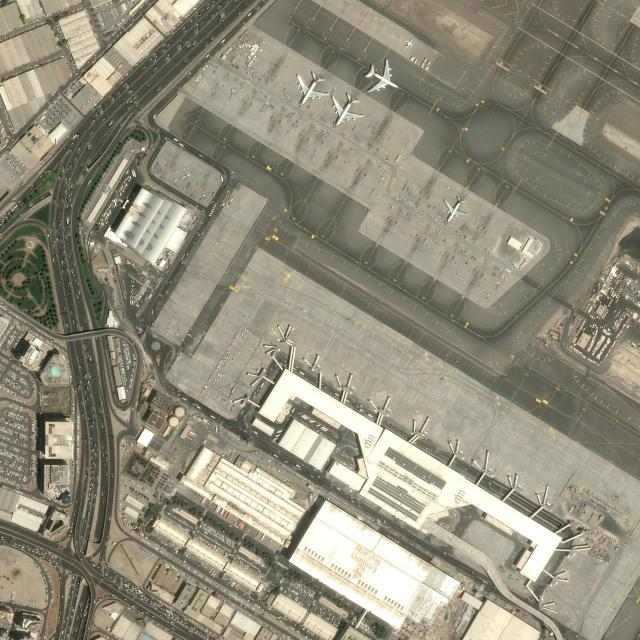aircraft: (364, 58, 398, 92), (295, 70, 329, 104), (330, 92, 363, 127), (443, 194, 468, 222), (405, 39, 413, 49)
